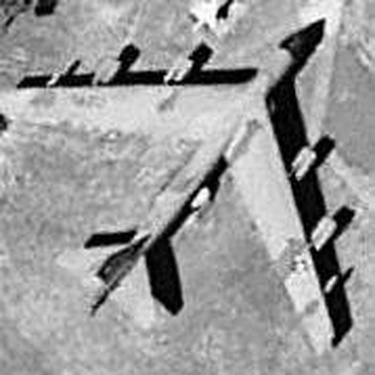airplane: (4, 12, 362, 357)
